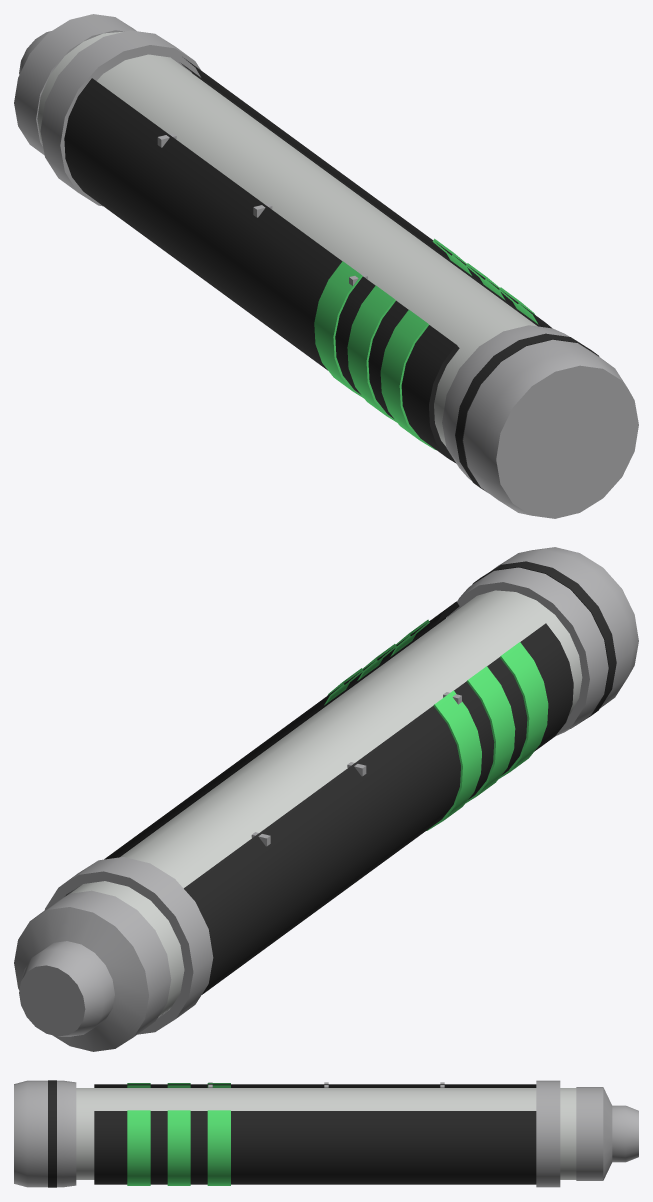
Rendered from regen_r3.glb.
The picture shows the model from 3 angles, top to bottom: view 1: azimuth 30°, elevation 25°; view 2: azimuth 150°, elevation 25°; view 3: azimuth 270°, elevation 25°; orthographic projection. The views are drawn at different scales.
Parts seen in each view (by area): view 1: body; view 2: body; view 3: body.
Boxes of the visible parts, bbox=[...] form: body: bbox=[14, 14, 638, 518]; body: bbox=[14, 547, 638, 1051]; body: bbox=[14, 1080, 638, 1187].
Bounding box in the file's own units: 0.0121 × 0.0119 × 0.07.
